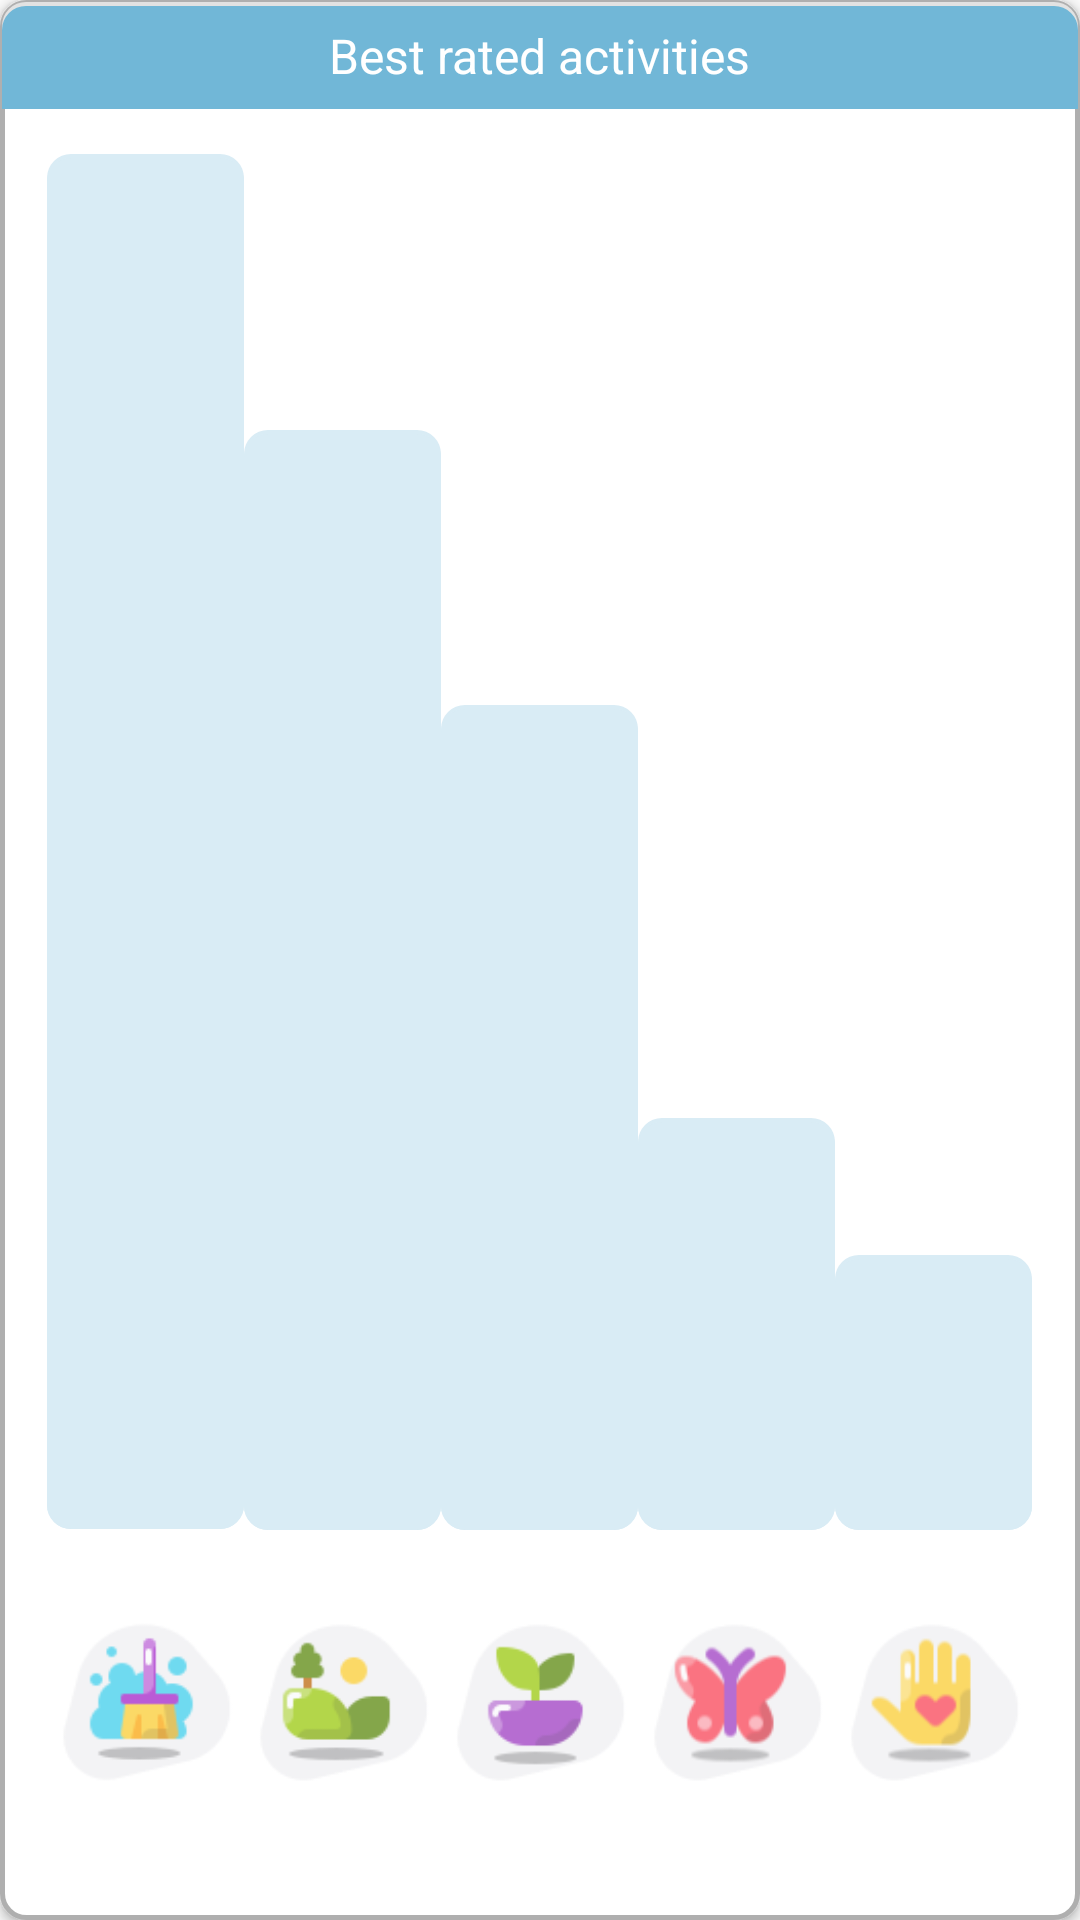

Locate icon controls on the screen. Image size 1080 x 1920, boxes as (x1=x1, y1=y1, x2=x2, y2=y2).
butterfly task: (x1=674, y1=1647, x2=787, y2=1762)
clean task: (x1=89, y1=1638, x2=194, y2=1760)
hand with heart task: (x1=871, y1=1638, x2=971, y2=1762)
nature task: (x1=282, y1=1642, x2=391, y2=1761)
